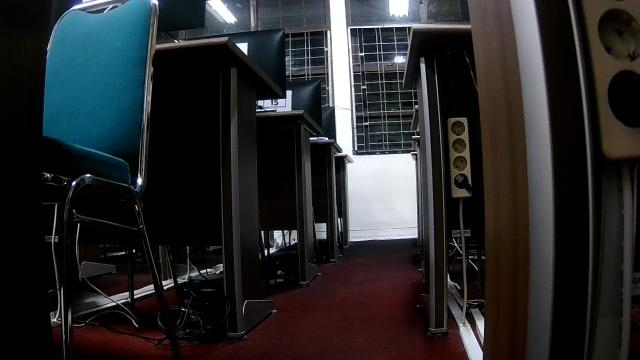Kursi: (39, 0, 186, 359)
